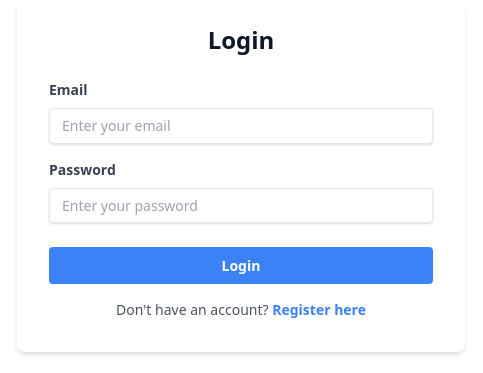
Test: LoginForm › should disable form during submission
The width and height of the screenshot is (483, 373).
Type "test@example.com" into the field labelled "Email".
click(241, 126); type("test@example.com")  # box x1=49 y1=108 x2=433 y2=144
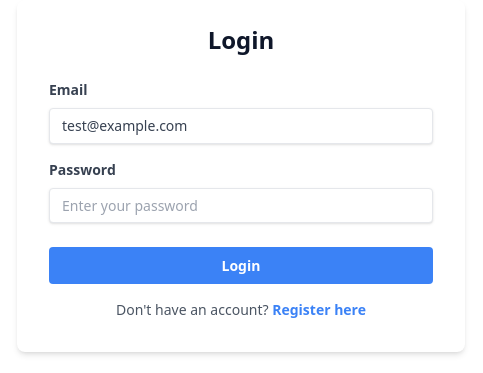
Type "password123" into the password field labelled "Password".
click(241, 205); type("password123")  # box x1=49 y1=188 x2=433 y2=223
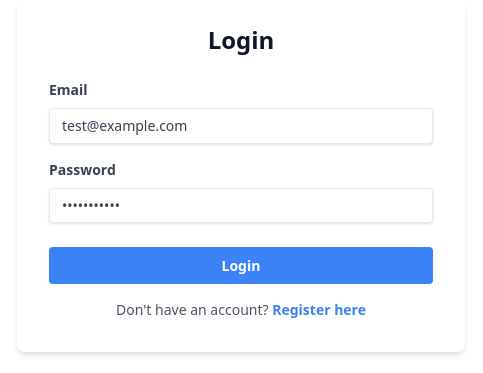
Click the button "Login".
click(241, 266)  # box x1=49 y1=247 x2=433 y2=284
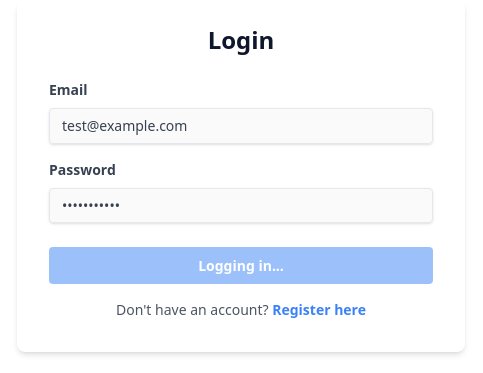
Expected: the button named "login" is disabled, x1=49 y1=247 x2=433 y2=284
